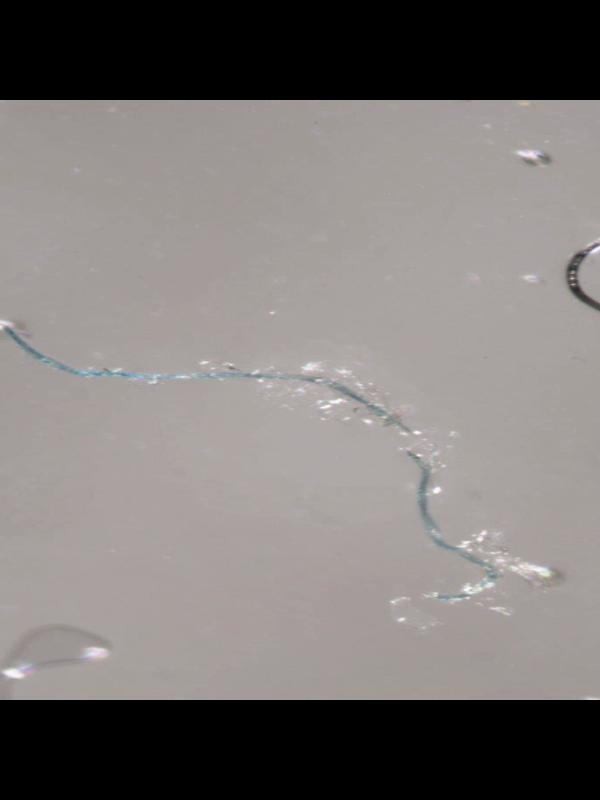microplastic: (0, 316, 566, 626)
